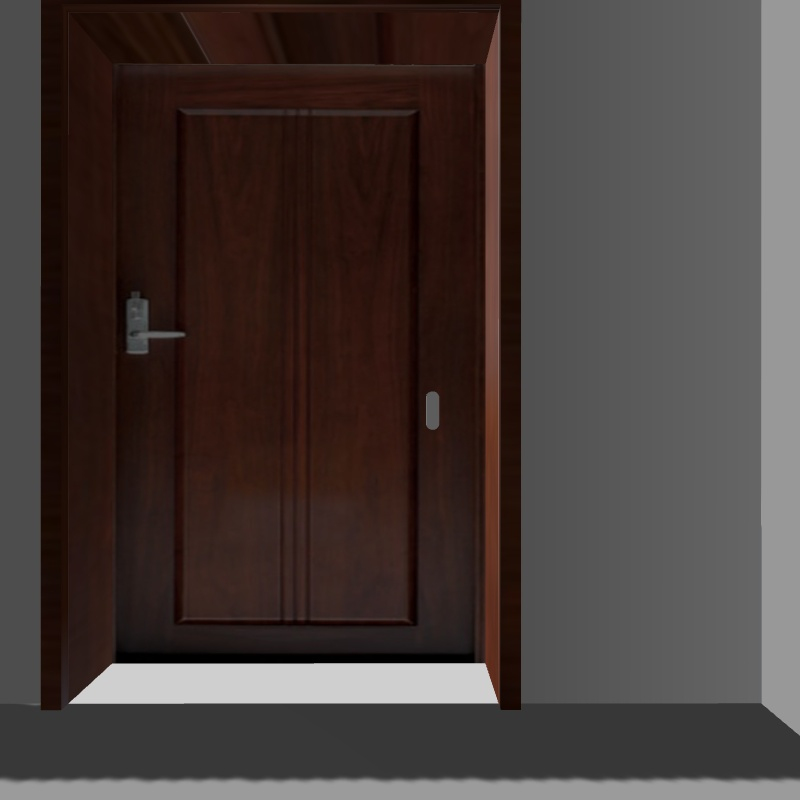handle: (118, 291, 186, 361)
